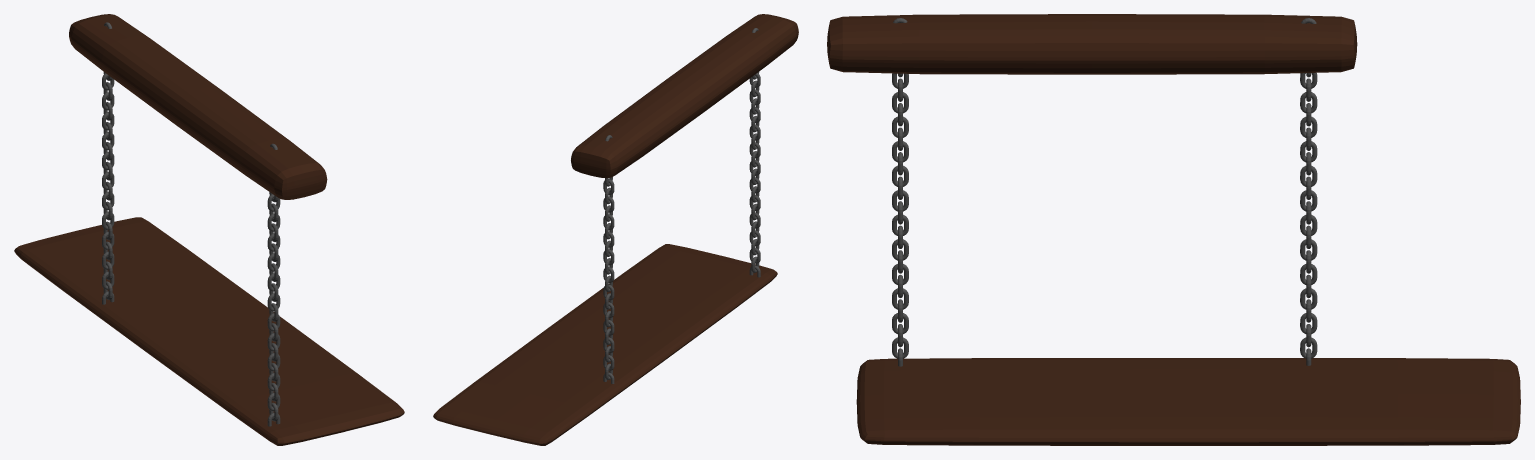
3 views of the same model, side by side, from view 1: azimuth 30°, elevation 25°; view 2: azimuth 150°, elevation 25°; view 3: azimuth 270°, elevation 25° (orthographic). The views are drawn at different scales.
Visible parts, largest first — view 1: Cube.028; view 2: Cube.028; view 3: Cube.028.
Boxes of the visible parts, <box> form: Cube.028: <box>14,14,404,445</box>; Cube.028: <box>433,14,798,445</box>; Cube.028: <box>827,14,1520,445</box>.
Bounding box in the file's own units: 213 × 412 × 717.
